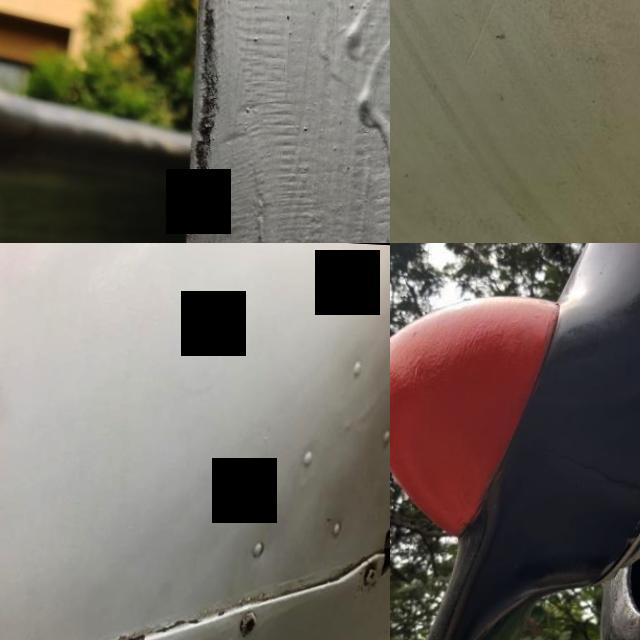Crack: (531, 433, 640, 501), (64, 610, 155, 640), (311, 612, 390, 640)
